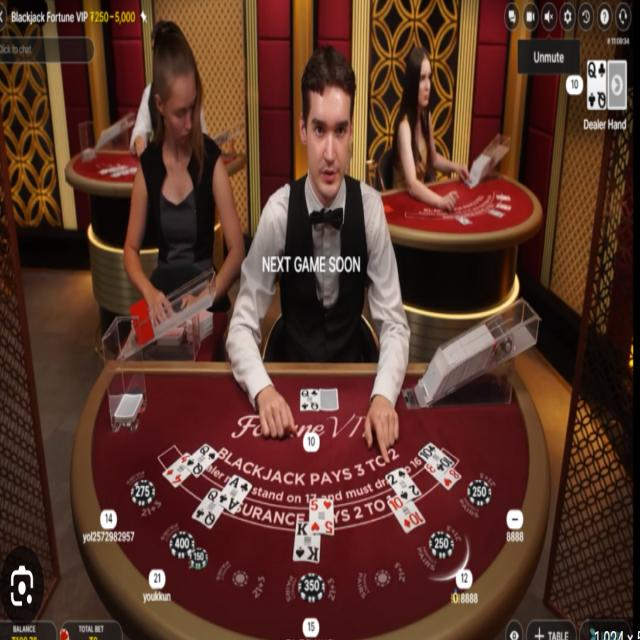Card-10: (388, 495, 426, 533), (418, 441, 454, 474)
Card-2: (385, 467, 422, 502)
Card-4: (162, 452, 191, 487)
Card-5: (310, 498, 333, 535)
Card-8: (424, 463, 461, 491)
Card-A: (217, 474, 252, 513)
Card-K: (293, 522, 320, 562)
Card-Q: (192, 488, 224, 529), (184, 442, 219, 479), (300, 389, 319, 410)
